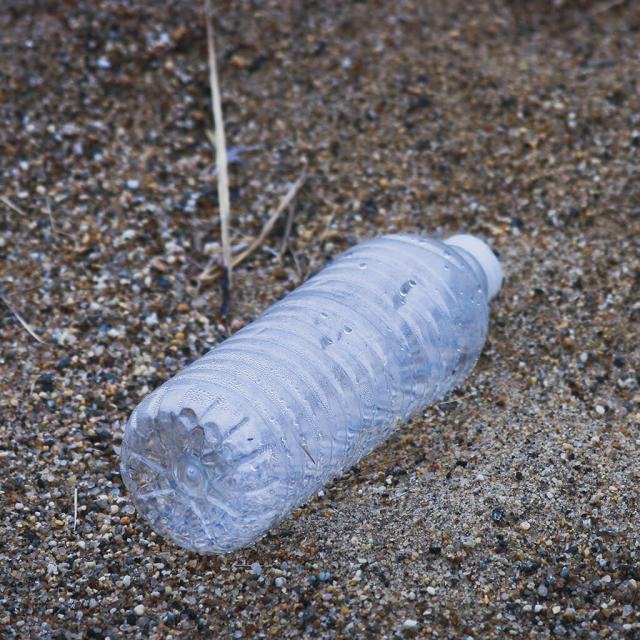plastic_bottle: (111, 244, 537, 550)
